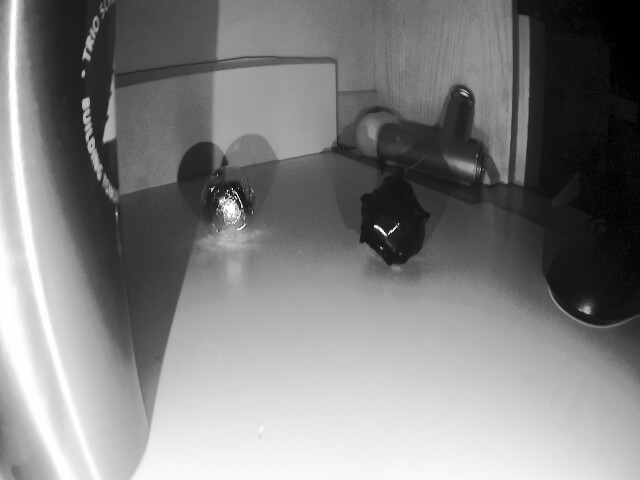black: (353, 178, 435, 268)
silver: (196, 164, 256, 236)
